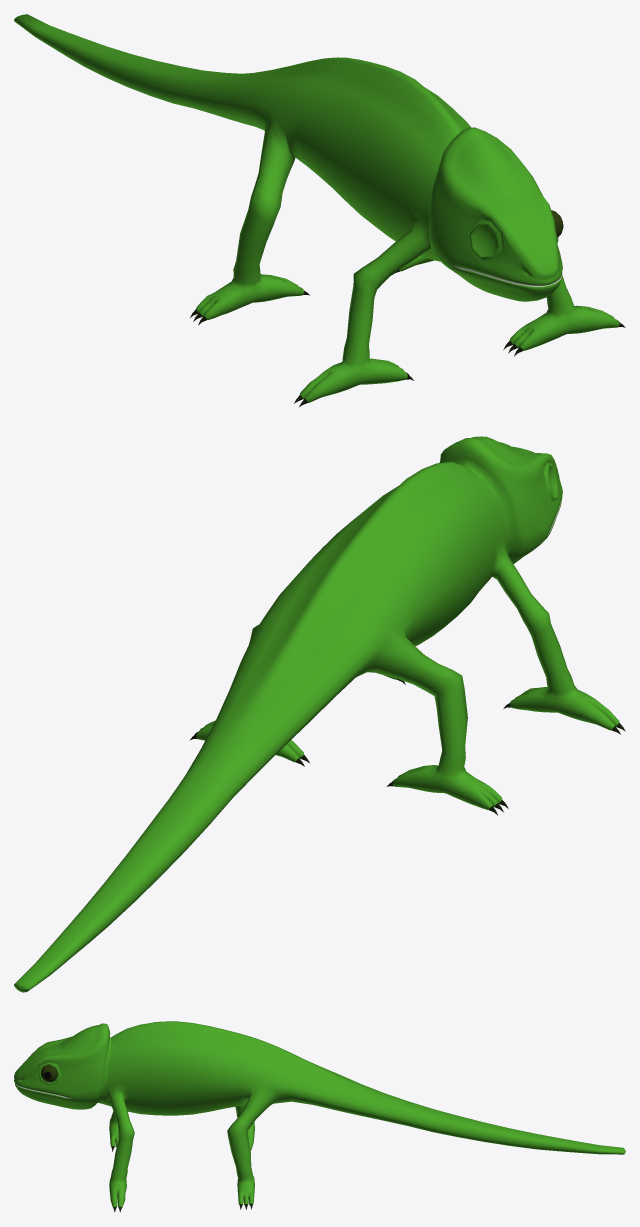
File: chameleon.obj
3 views of the same model, one above another, from view 1: azimuth 30°, elevation 25°; view 2: azimuth 150°, elevation 25°; view 3: azimuth 270°, elevation 25° (orthographic). The views are drawn at different scales.
Parts seen in each view (by area): view 1: chameleon; view 2: chameleon; view 3: chameleon.
Part boxes in pixels (left/top/right/bottom): chameleon: left=14, top=14, right=625, bottom=406; chameleon: left=14, top=436, right=625, bottom=992; chameleon: left=14, top=1021, right=625, bottom=1212.
Size of the model in its own units: 0.1963 by 0.1431 by 0.5485.
